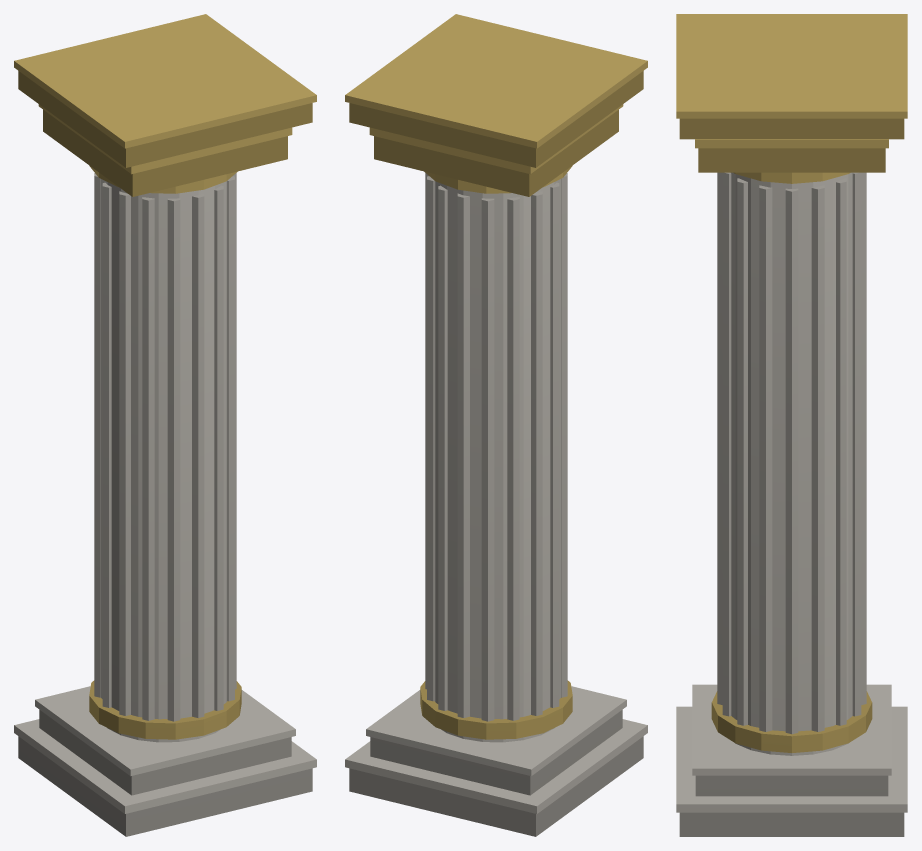
Rendered from palace_column.glb.
3 renders of one model, left to right at view 1: azimuth 30°, elevation 25°; view 2: azimuth 150°, elevation 25°; view 3: azimuth 270°, elevation 25°, orthographic. The views are drawn at different scales.
Parts seen in each view (by area): view 1: palace_column; view 2: palace_column; view 3: palace_column.
Part boxes in pixels (bbox=[...]): palace_column: bbox=[14, 14, 316, 836]; palace_column: bbox=[345, 14, 647, 836]; palace_column: bbox=[676, 14, 907, 836].
Size of the model in its own units: 0.865 by 3 by 0.865.
